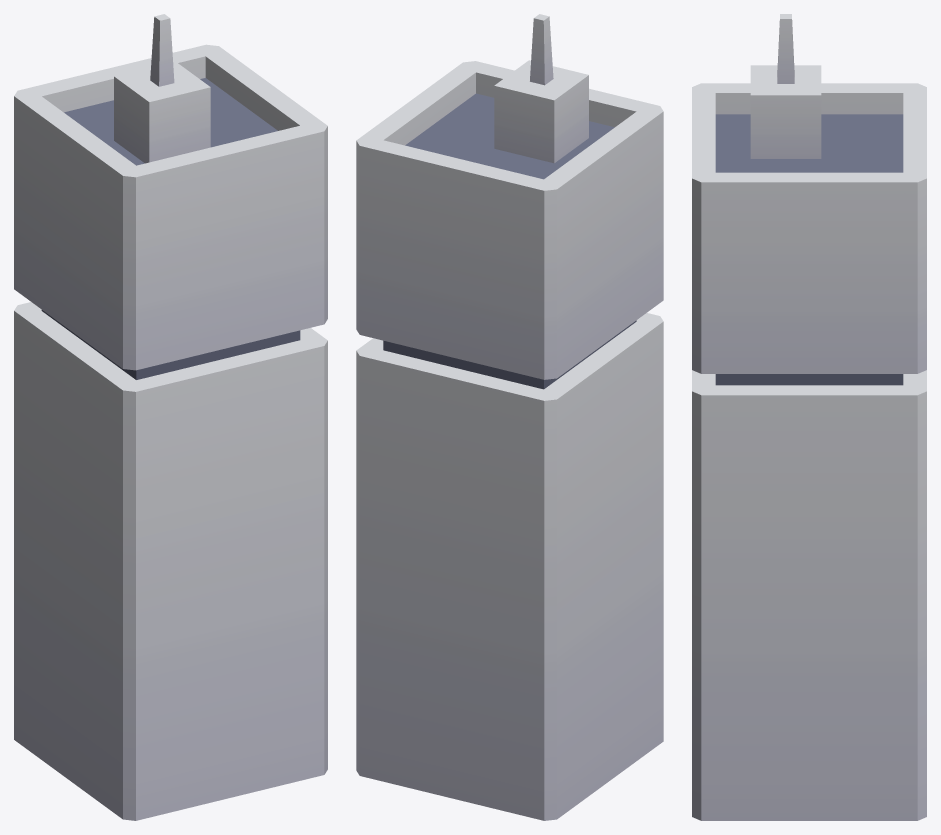
Rendered from commercial__low-detail-building-d.glb.
3 renders of one model, left to right at view 1: azimuth 30°, elevation 25°; view 2: azimuth 150°, elevation 25°; view 3: azimuth 270°, elevation 25°, orthographic. The views are drawn at different scales.
Parts seen in each view (by area): view 1: low-detail-building-d; view 2: low-detail-building-d; view 3: low-detail-building-d.
Part boxes in pixels (left/top/right/bottom): low-detail-building-d: left=14, top=14, right=327, bottom=820; low-detail-building-d: left=356, top=14, right=663, bottom=820; low-detail-building-d: left=692, top=14, right=926, bottom=820.
Bounding box in the file's own units: 0.4999 × 1.75 × 0.4999.
1 material, 1 textured.
